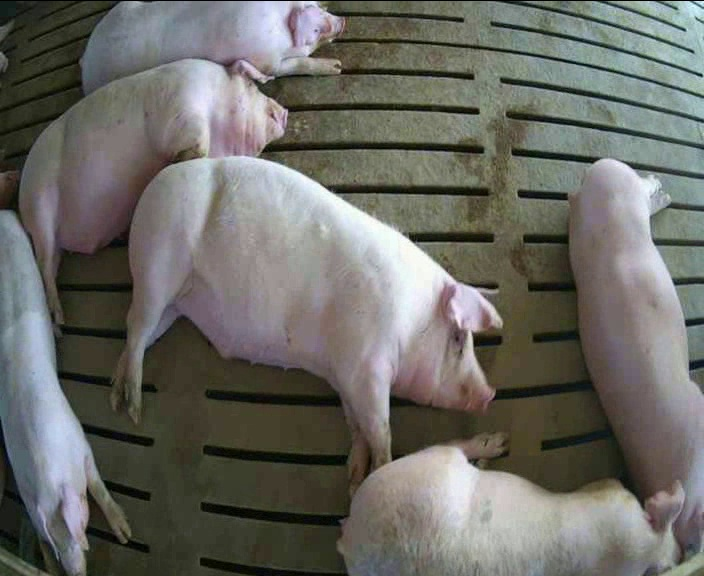pig: (113, 159, 500, 490), (19, 59, 286, 323), (569, 159, 703, 552), (338, 433, 683, 574), (81, 1, 343, 93)
